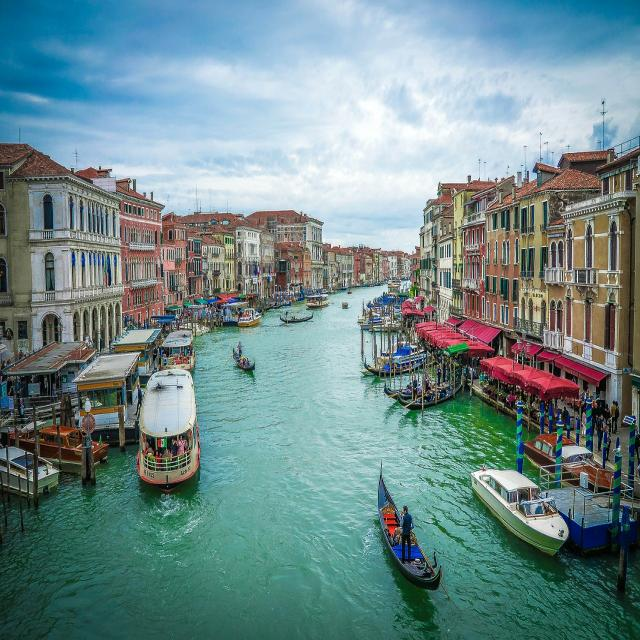boat: (367, 460, 452, 614), (231, 340, 263, 388)
